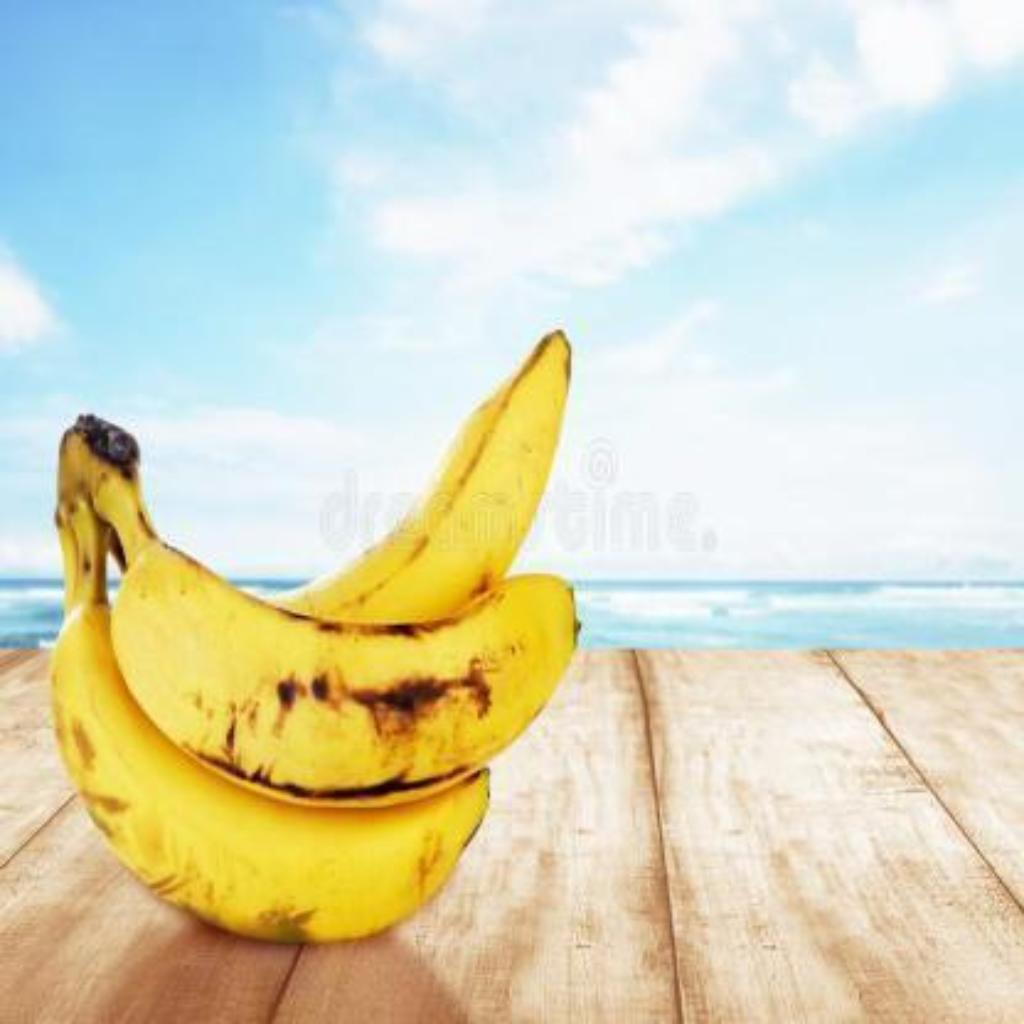banana: (47, 426, 480, 948), (111, 335, 583, 795)
